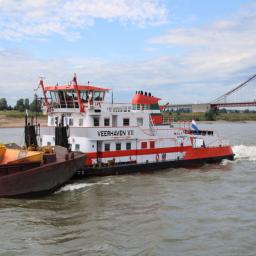tugboat: (22, 69, 238, 189)
